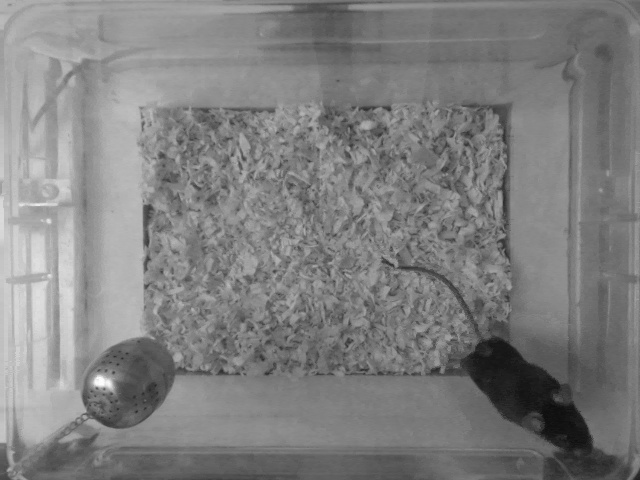mice: (384, 256, 602, 459)
